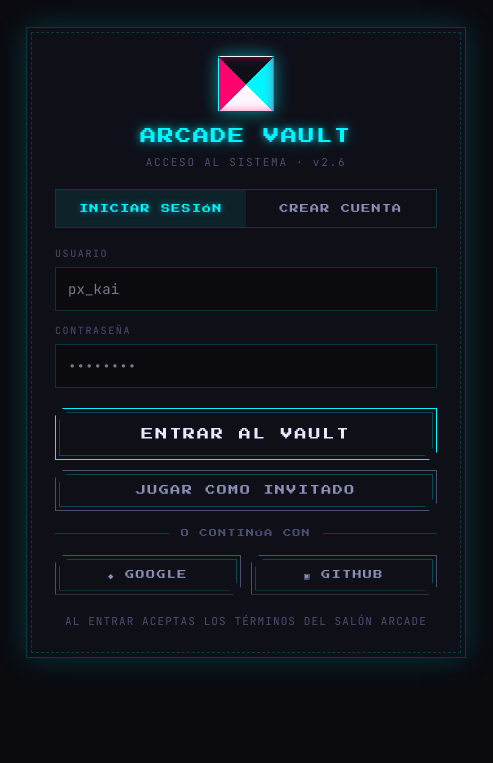
Scenario: AuthScreen › shows the email field only on the sign-up tab
Expected: the field with placeholder "jugador@vault.gg" is not shown
Click the button "CREAR CUENTA" at [341, 208], box [246,190,436,227]
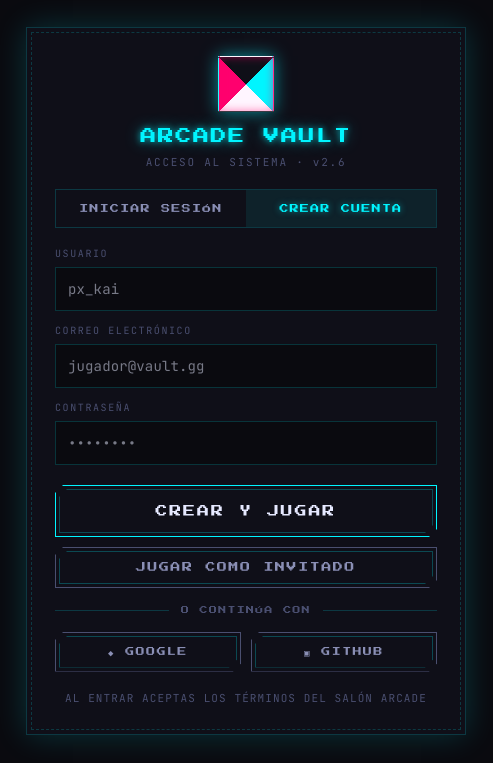
Now the field with placeholder "jugador@vault.gg" is shown, box [55,344,437,388]
